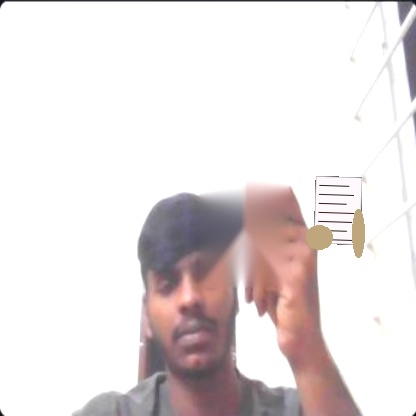cheat_chit: (313, 176, 362, 245)
